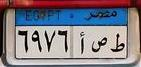6: (57, 29, 69, 52), (19, 29, 30, 52)
7: (43, 30, 56, 52)
9: (31, 30, 42, 52)
Taa: (109, 32, 125, 53)
alif: (78, 32, 87, 55)
saad: (90, 36, 108, 53)
